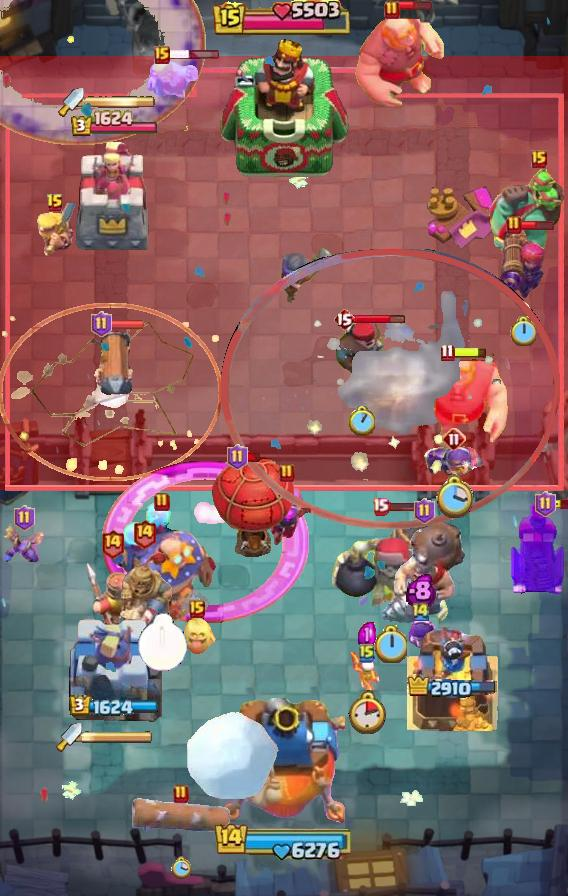archer: (146, 54, 198, 98)
arrows: (36, 203, 77, 257)
balloon: (407, 353, 509, 451), (354, 7, 448, 109)
bar: (66, 611, 162, 731), (73, 140, 155, 256)
bat-evolution: (176, 618, 218, 656)
battle-healer: (93, 320, 137, 404)
bomb-tower: (279, 246, 335, 304)
cannon-cart: (210, 455, 294, 557)
clock: (214, 821, 354, 861), (213, 0, 355, 38)
earthquake: (84, 558, 140, 628)
electro-giant: (329, 509, 451, 625)
electro-spirit: (406, 573, 436, 607), (358, 622, 376, 648)
elixir: (136, 613, 187, 672), (435, 474, 473, 520), (348, 690, 386, 734), (374, 625, 407, 663), (510, 316, 536, 346), (349, 406, 375, 436), (171, 856, 191, 880)
emote: (353, 315, 406, 326), (168, 49, 220, 60), (452, 345, 488, 358), (520, 219, 556, 231), (109, 318, 145, 329), (398, 0, 433, 11), (387, 500, 422, 511), (245, 453, 263, 464), (552, 499, 567, 509)
firecracker-evolution: (423, 444, 485, 478)
goblin: (409, 618, 436, 652)
guard: (0, 302, 220, 482)
heal-spirit: (348, 652, 386, 690)
ice-spirit-evolution-symbol: (508, 502, 568, 598)
king-tower: (218, 37, 350, 181), (223, 698, 345, 826)
king-tower-bar: (84, 95, 156, 109), (82, 730, 154, 744)
knight-evolution: (102, 461, 310, 624)
lava-hound: (484, 169, 568, 275)
little-prince: (108, 501, 216, 627)
mega-minion: (499, 225, 547, 301)
minion: (130, 793, 232, 837)
phoenix-small: (332, 319, 390, 389)
queen-tower: (407, 627, 499, 731)
ram-rider: (115, 550, 173, 650)
rascal-girl: (261, 485, 313, 547)
rocket: (0, 0, 206, 146)
royal-delivery: (2, 524, 46, 570)
royal-ghost: (221, 249, 560, 529)
selected: (69, 110, 158, 138), (407, 674, 499, 701), (69, 694, 159, 717)
text: (131, 518, 156, 549), (99, 529, 124, 560), (442, 427, 466, 451), (91, 311, 112, 337), (227, 444, 248, 470), (536, 491, 557, 517), (414, 498, 435, 524), (14, 505, 35, 531), (333, 307, 355, 331), (411, 602, 431, 623), (46, 193, 64, 213), (371, 497, 389, 515), (384, 0, 400, 20), (506, 215, 522, 235), (279, 463, 295, 483), (154, 492, 170, 512), (359, 643, 375, 663), (173, 784, 189, 804), (154, 46, 170, 64), (531, 150, 547, 168), (189, 600, 205, 618), (440, 343, 455, 361)
wall-breaker: (185, 710, 279, 802)
wizard: (380, 518, 468, 626)
